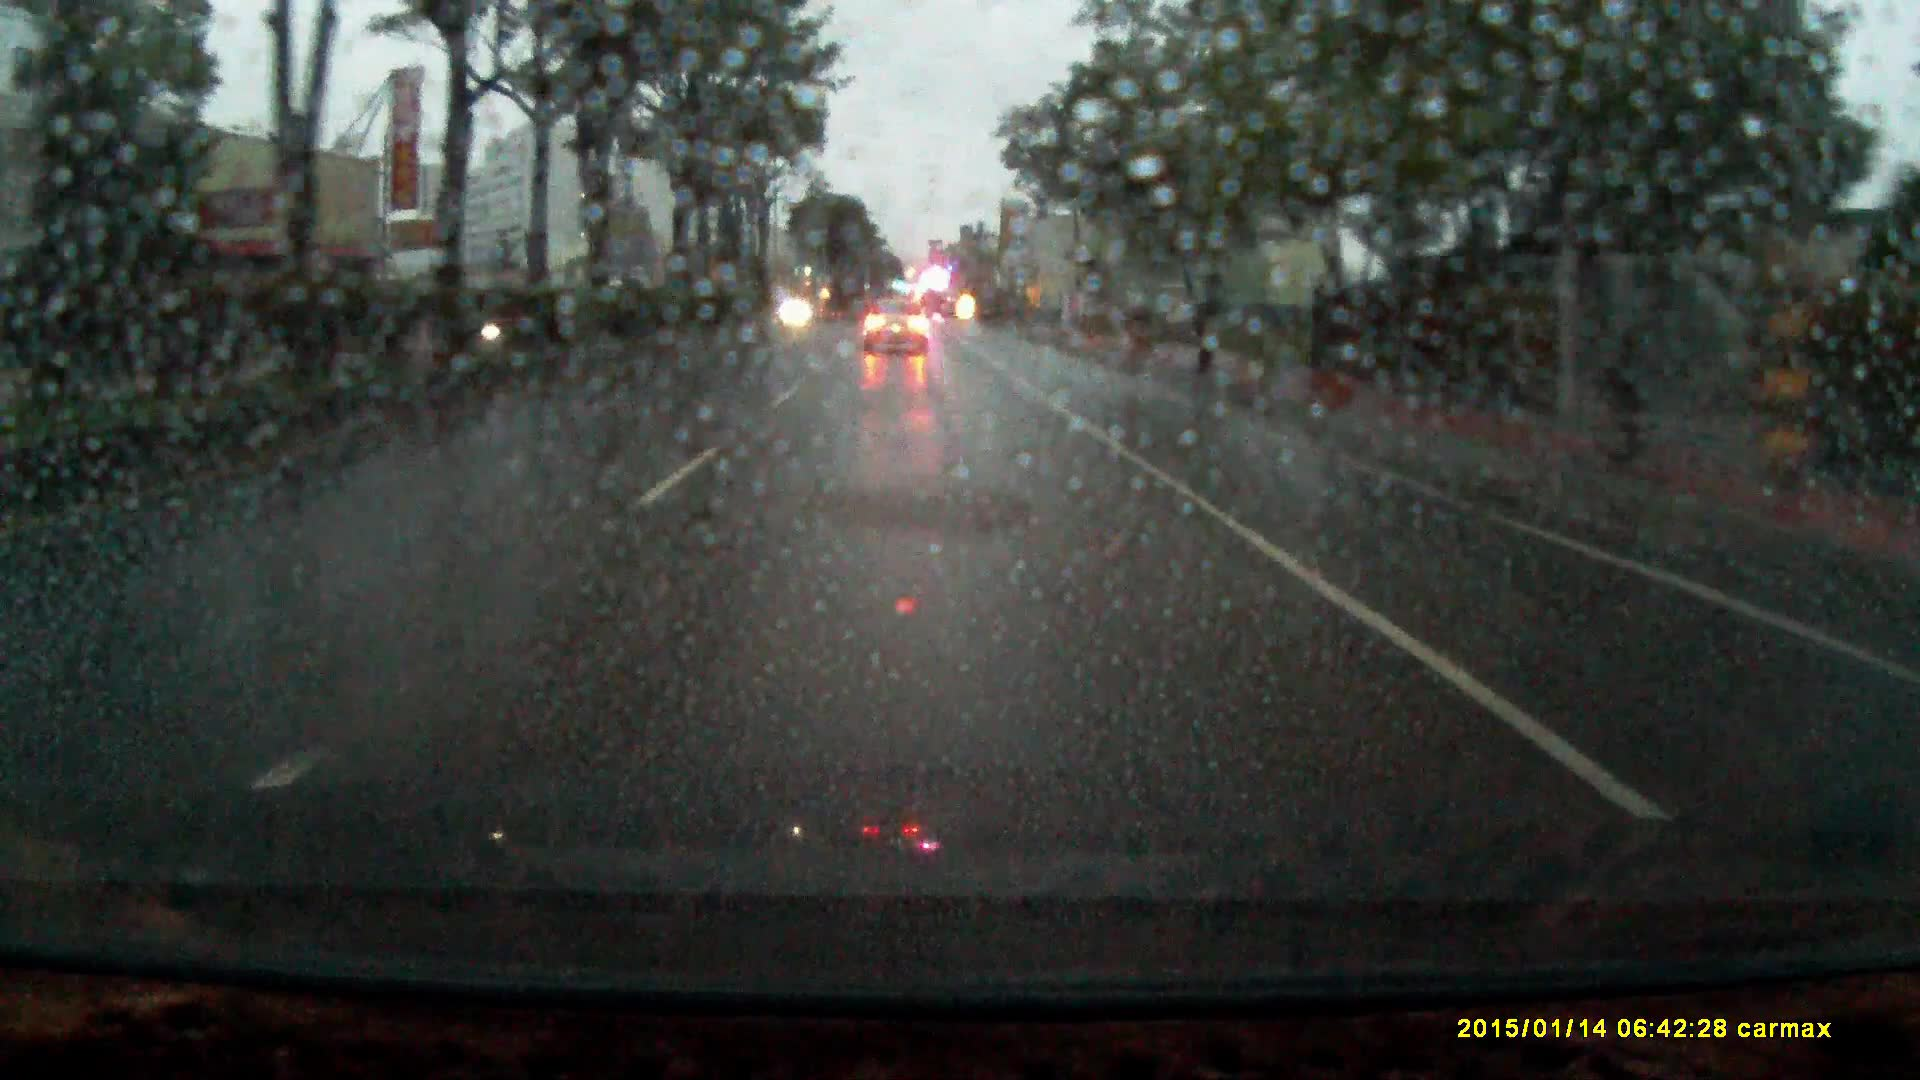vehicle: (862, 301, 932, 360)
